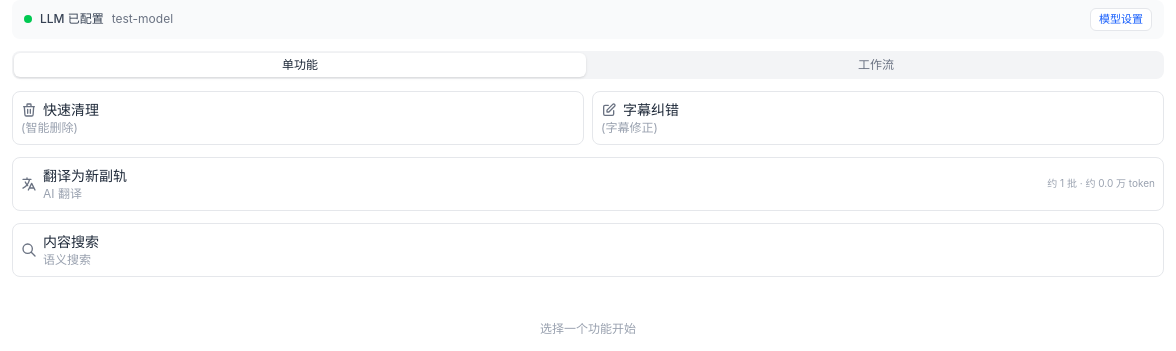
it: AIAssistantPanel -- workflow mode › shows queued state text for queued steps
Click the button "工作流" at (876, 64), box [590, 52, 1162, 76]
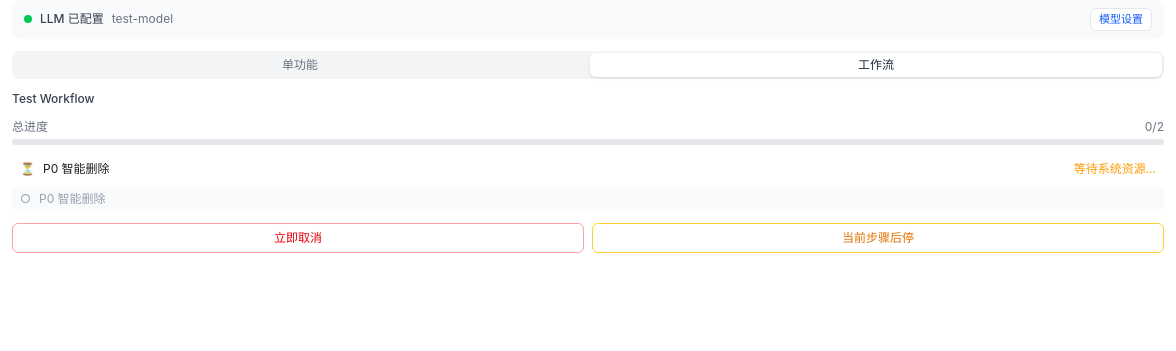
Expected: the text "等待系统资源" is shown, [1074, 160, 1156, 176]
